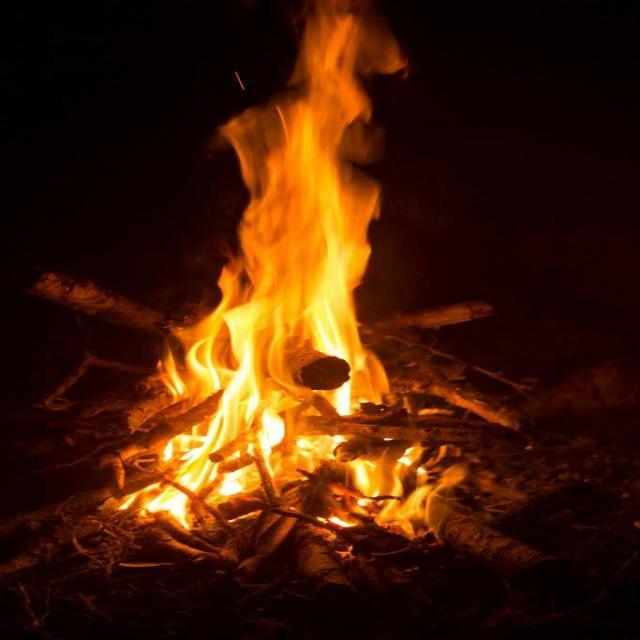Fire: (154, 44, 400, 508)
